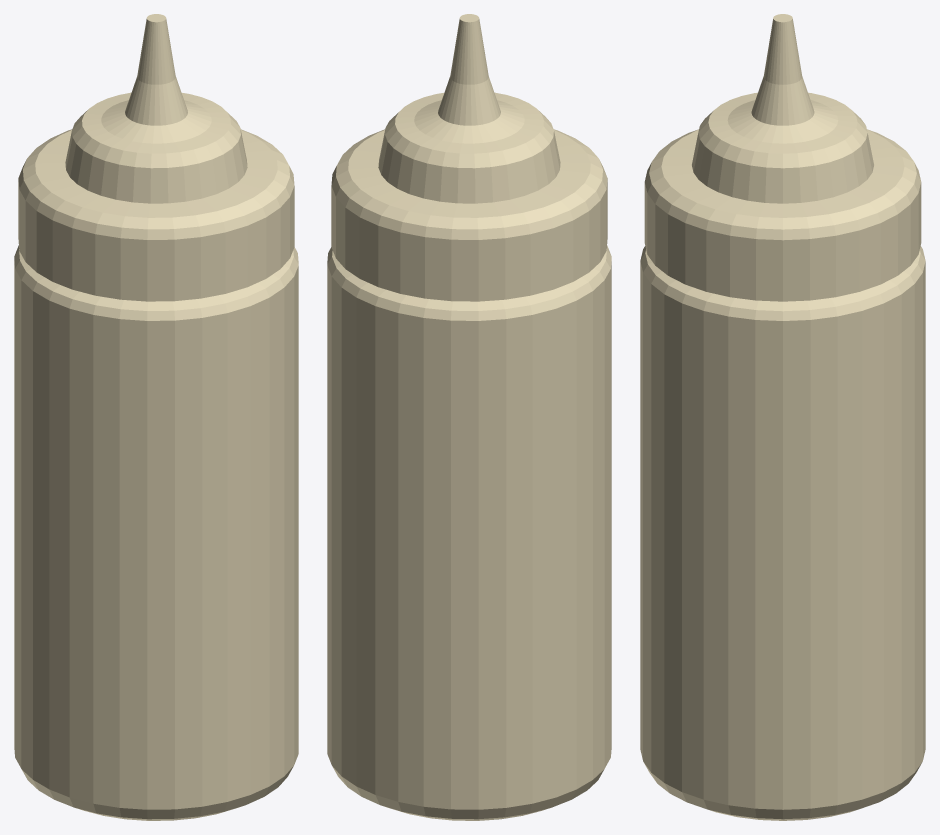
The model's file is condimentBottleMayo.fbx.
The picture shows the model from 3 angles, left to right: view 1: azimuth 30°, elevation 25°; view 2: azimuth 150°, elevation 25°; view 3: azimuth 270°, elevation 25°; orthographic projection.
Visible parts, largest first — view 1: Cylinder; view 2: Cylinder; view 3: Cylinder.
Part boxes in pixels (x1,y1,x2,y2): Cylinder: (14, 14, 298, 820); Cylinder: (327, 14, 611, 820); Cylinder: (640, 14, 925, 820).
Size of the model in its own units: 331 by 973 by 331.
